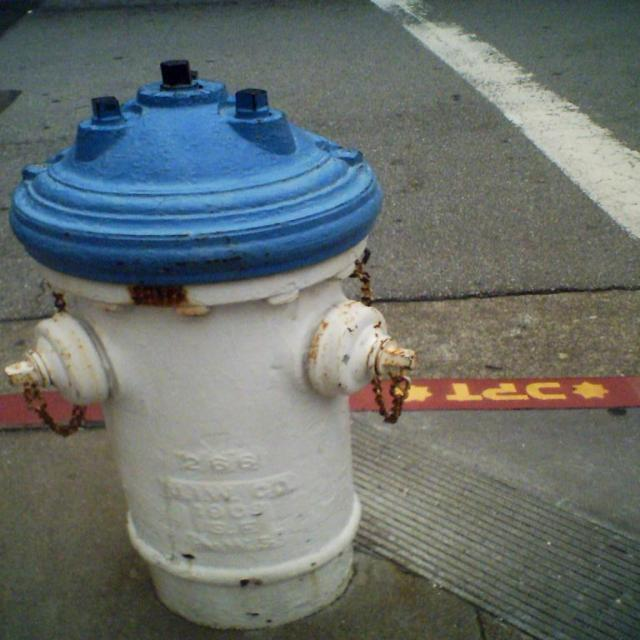fire_hydrant: (8, 58, 417, 632)
